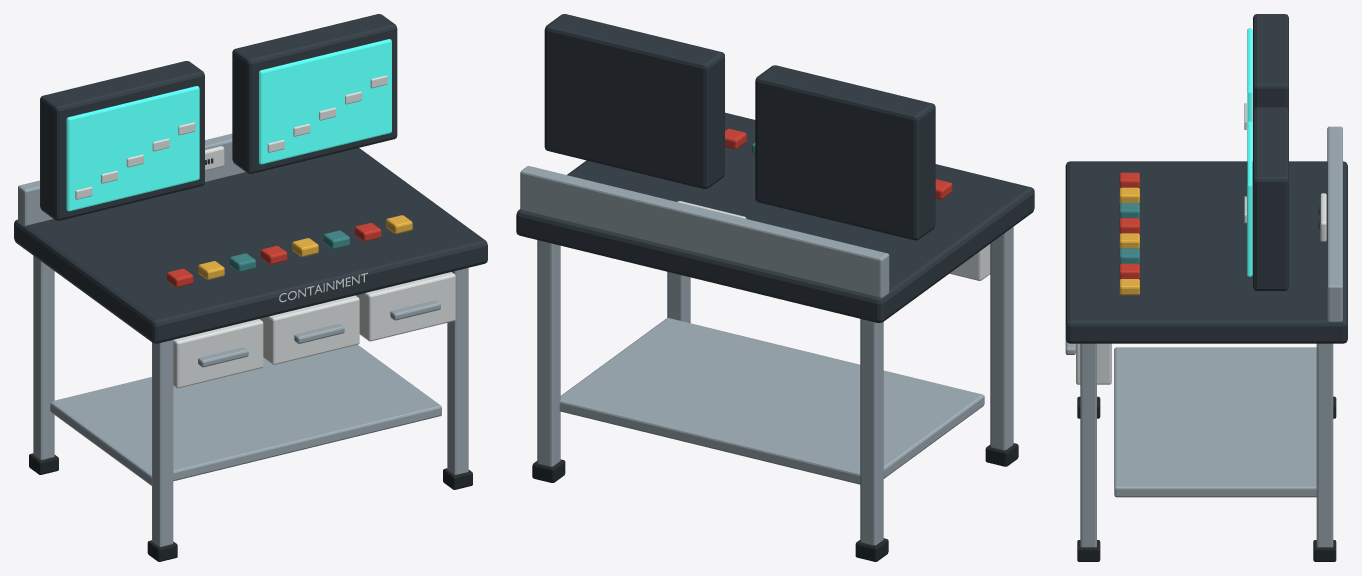
Rendered from biosafety-console.glb.
3 views of the same model, side by side, from view 1: azimuth 30°, elevation 25°; view 2: azimuth 150°, elevation 25°; view 3: azimuth 270°, elevation 25° (orthographic). The views are drawn at different scales.
Visible parts, largest first — view 1: Worktop, Equipment shelf, Screen, Screen.001, Monitor housing.001, Monitor housing, Tubular leg, Cabinet drawer.001, Cabinet drawer.002, Tubular leg.001, Cabinet drawer, Tubular leg.002 (+1 smaller); view 2: Equipment shelf, Worktop, Monitor housing, Monitor housing.001, Splashback, Tubular leg.001, Tubular leg.003, Tubular leg, Tubular leg.002, Cabinet drawer; view 3: Worktop, Equipment shelf, Monitor housing.001, Tubular leg.003, Tubular leg.002, Monitor housing, Splashback, Screen.001, Cabinet drawer.002, Screen, Rubber pad.003, Rubber pad.002.
Boxes of the visible parts, x1=… form: Worktop: x1=14, y1=148, x2=487, y2=343; Equipment shelf: x1=50, y1=344, x2=441, y2=485; Screen: x1=66, y1=86, x2=199, y2=211; Screen.001: x1=259, y1=39, x2=391, y2=164; Monitor housing.001: x1=232, y1=14, x2=397, y2=173; Monitor housing: x1=40, y1=61, x2=204, y2=220; Tubular leg: x1=152, y1=340, x2=173, y2=546; Cabinet drawer.001: x1=259, y1=295, x2=359, y2=364; Cabinet drawer.002: x1=356, y1=272, x2=455, y2=341; Tubular leg.001: x1=33, y1=255, x2=54, y2=459; Cabinet drawer: x1=173, y1=319, x2=263, y2=388; Tubular leg.002: x1=447, y1=268, x2=468, y2=474; Equipment shelf: x1=559, y1=318, x2=984, y2=484; Worktop: x1=516, y1=112, x2=1034, y2=322; Monitor housing: x1=755, y1=65, x2=935, y2=240; Monitor housing.001: x1=544, y1=14, x2=724, y2=188; Splashback: x1=520, y1=166, x2=889, y2=297; Tubular leg.001: x1=860, y1=319, x2=883, y2=545; Tubular leg.003: x1=537, y1=240, x2=560, y2=466; Tubular leg: x1=990, y1=227, x2=1013, y2=450; Tubular leg.002: x1=667, y1=272, x2=690, y2=323; Cabinet drawer: x1=950, y1=244, x2=990, y2=280; Worktop: x1=1065, y1=161, x2=1347, y2=343; Equipment shelf: x1=1114, y1=347, x2=1316, y2=497; Monitor housing.001: x1=1253, y1=107, x2=1288, y2=290; Tubular leg.003: x1=1316, y1=343, x2=1333, y2=547; Tubular leg.002: x1=1080, y1=343, x2=1096, y2=547; Monitor housing: x1=1253, y1=14, x2=1288, y2=110; Splashback: x1=1327, y1=126, x2=1342, y2=321; Screen.001: x1=1247, y1=121, x2=1252, y2=276; Cabinet drawer.002: x1=1076, y1=343, x2=1111, y2=384; Screen: x1=1247, y1=28, x2=1252, y2=122; Rubber pad.003: x1=1313, y1=540, x2=1336, y2=561; Rubber pad.002: x1=1077, y1=540, x2=1100, y2=561.
Bounding box in the file's own units: 1.53 × 1.68 × 1.11.
